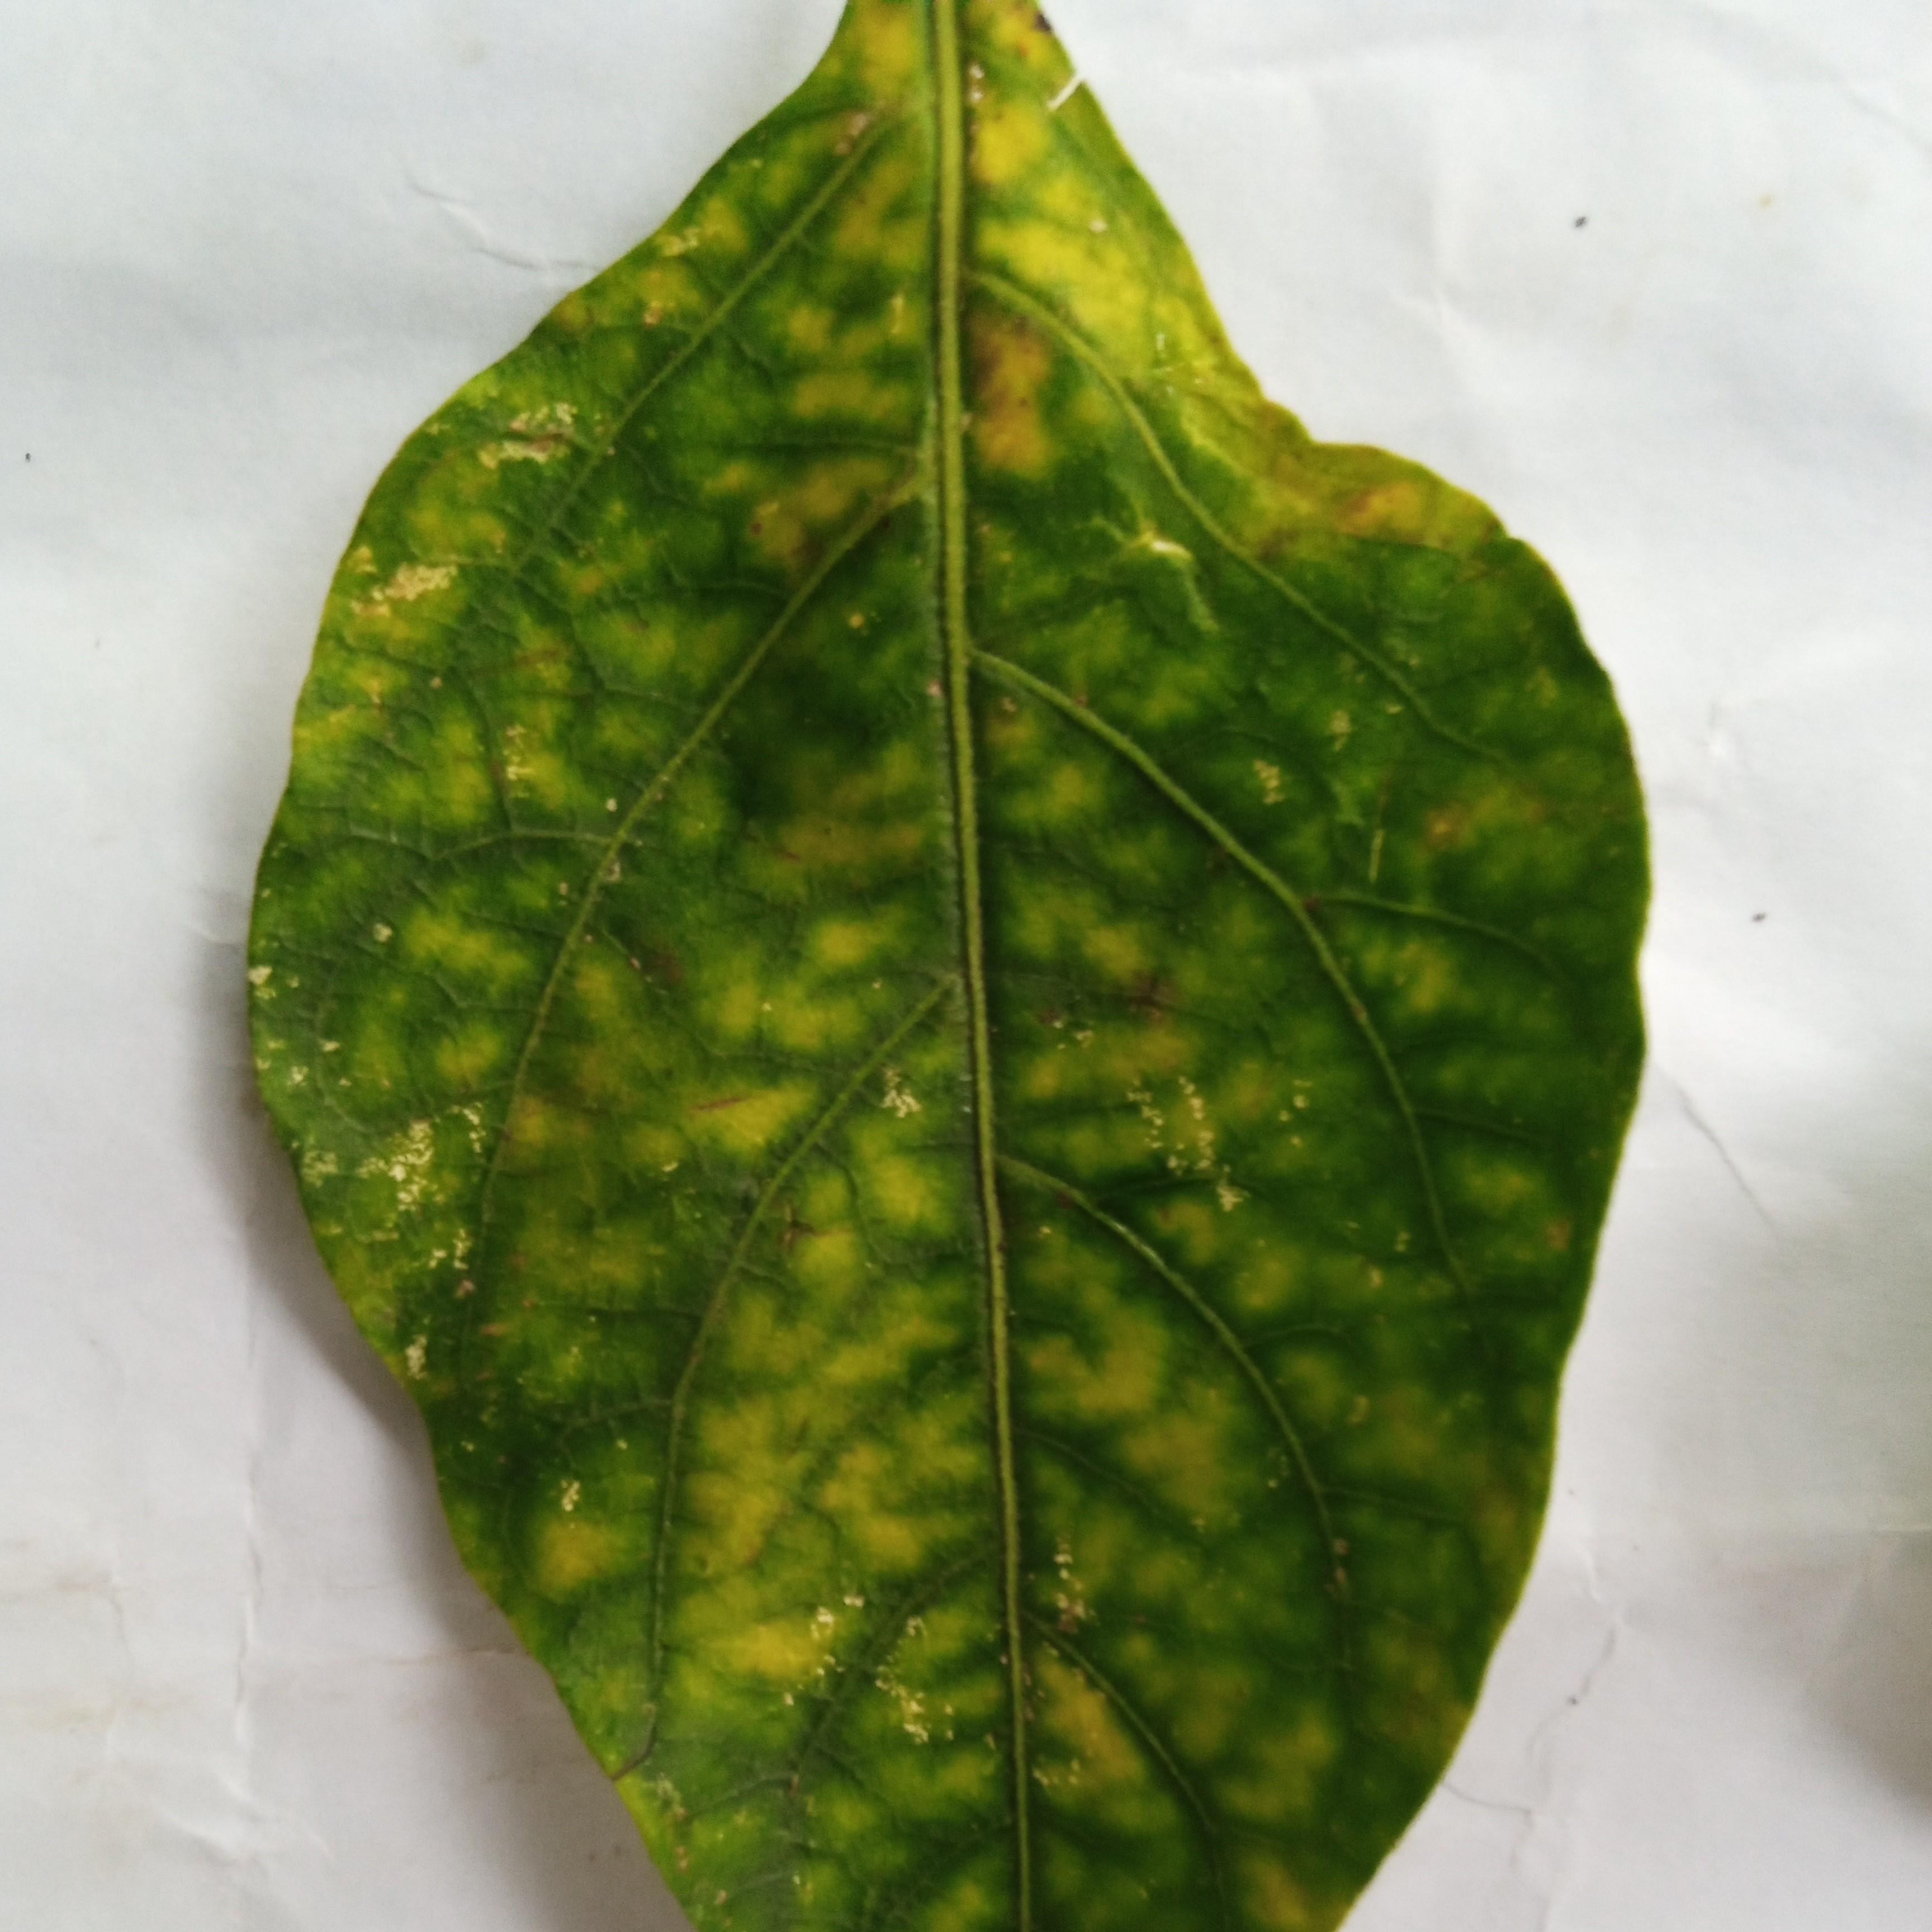Leaf: (150, 65, 1798, 1932)
